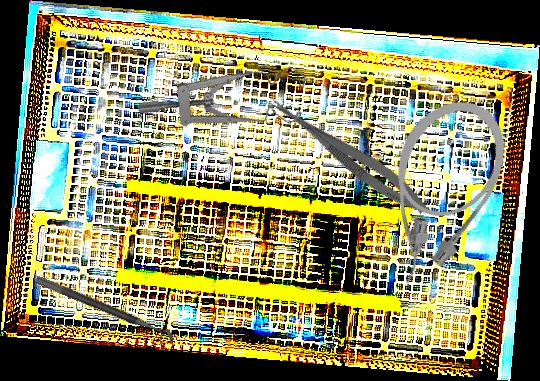Cannula: (347, 82, 526, 300)
Fixation Ring: (29, 274, 177, 354)
Micro Scissor: (259, 91, 433, 220)
Speculum: (136, 25, 315, 161)
